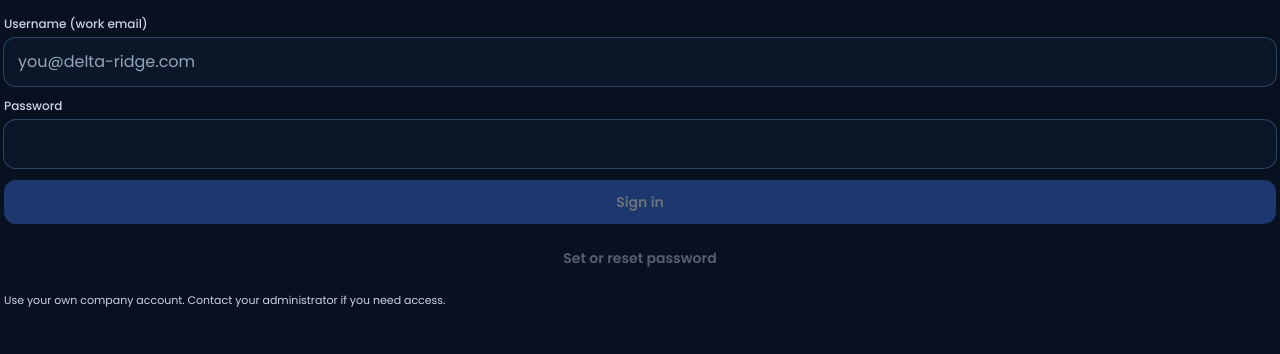
it: recovers from a network failure and enables retry
This screenshot has width=1280, height=354.
In the field labelled "Username (work email)": {"x": 640, "y": 62} [4,38,1276,86], type "rep@example.com"
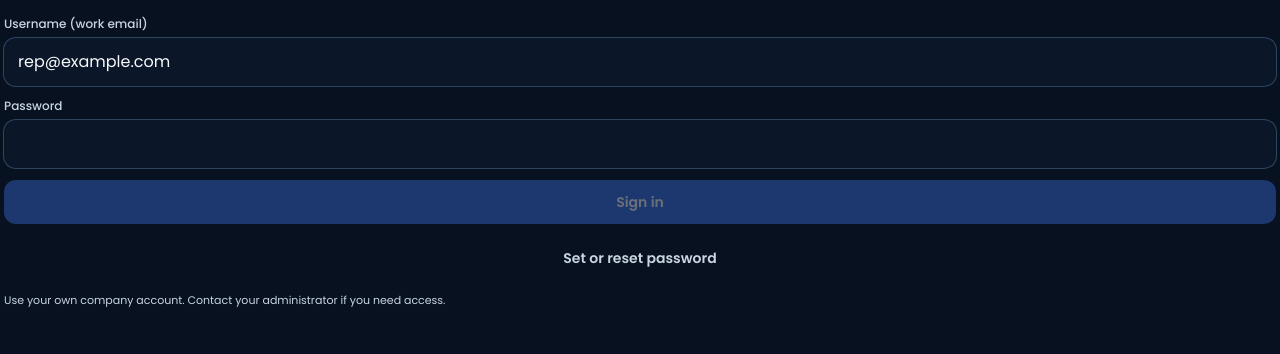
In the password field labelled "Password": {"x": 640, "y": 144} [4,120,1276,168], type "unique-password"
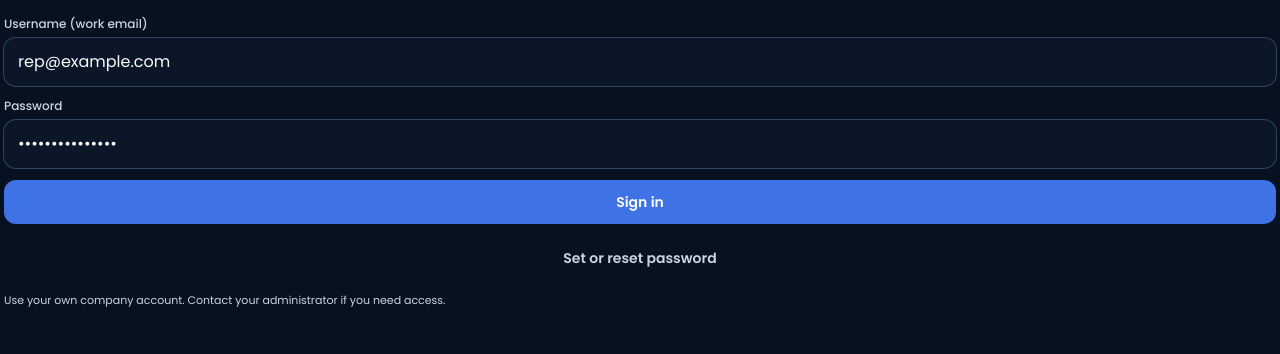
Click the button "Sign in": {"x": 640, "y": 202} [4,180,1276,224]
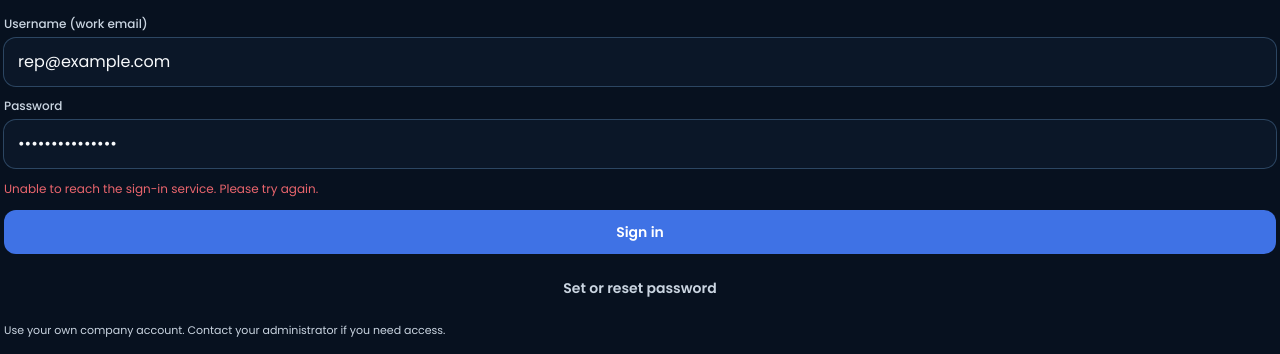
Expected: the button "Sign in" is enabled, [4,210,1276,254]
Expected: the message shows "Please try again", [4,180,318,197]
